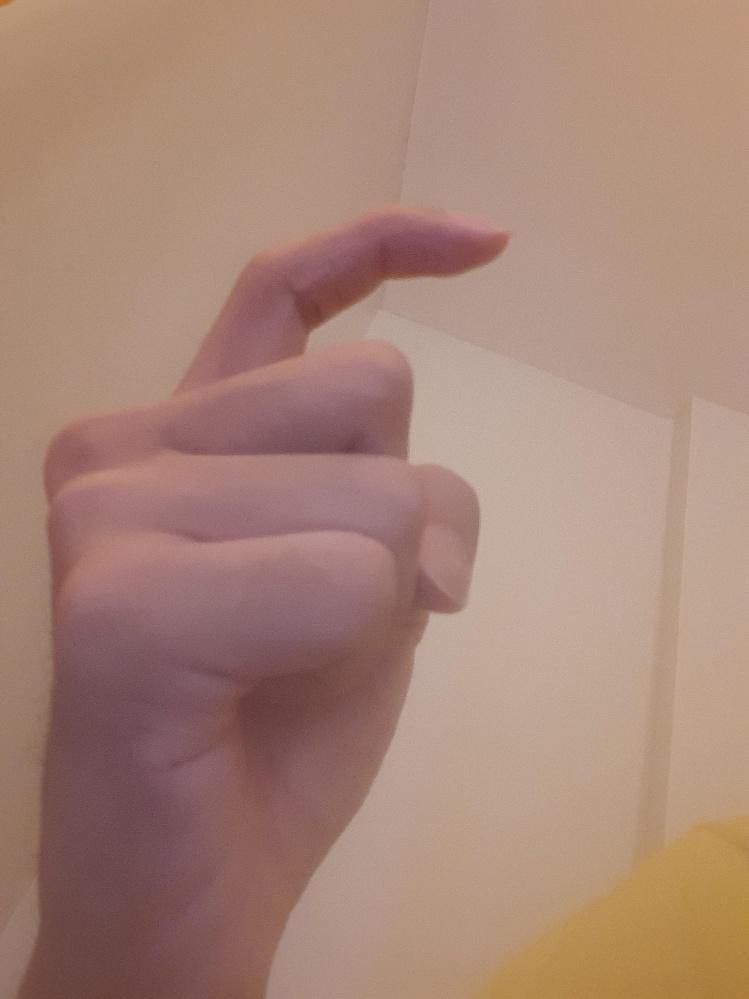x: (36, 202, 516, 943)
